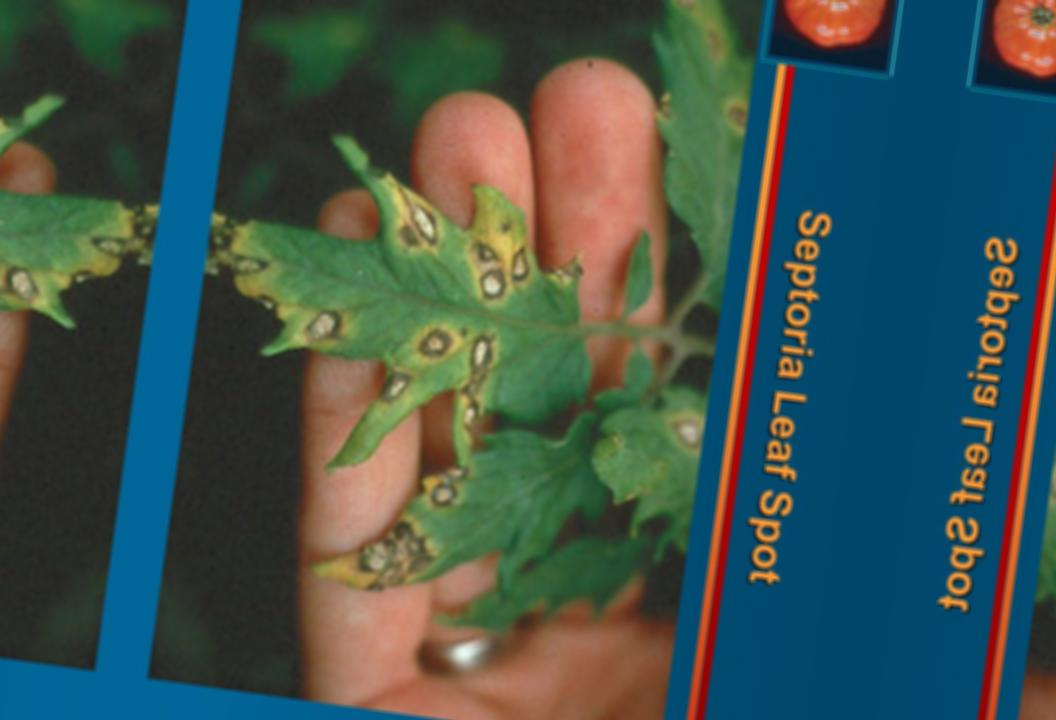Tomato Septoria leaf spot: (188, 113, 610, 478), (304, 395, 623, 636), (594, 0, 762, 343)
